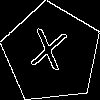X: (26, 28, 68, 80)
